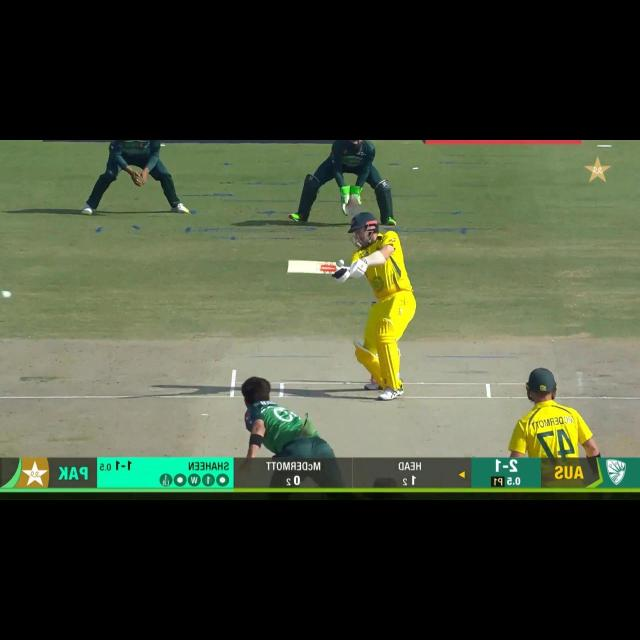bat: (284, 260, 337, 274)
toe: (286, 259, 300, 274)
